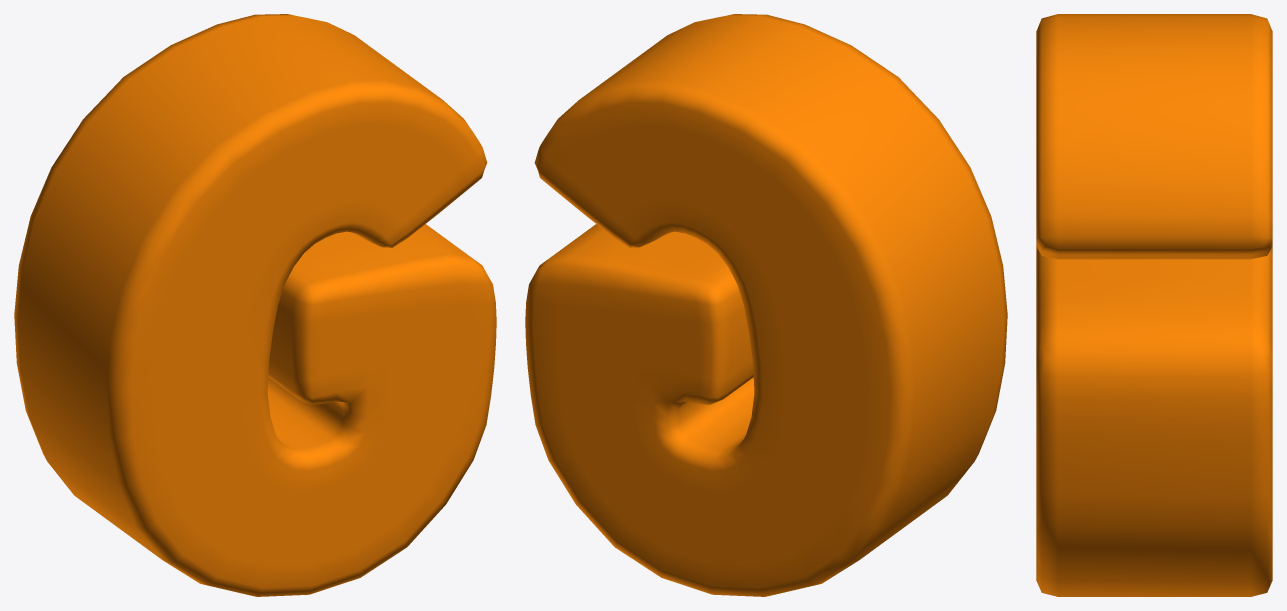
3 renders of one model, left to right at view 1: azimuth 30°, elevation 25°; view 2: azimuth 150°, elevation 25°; view 3: azimuth 270°, elevation 25°, orthographic. The views are drawn at different scales.
Parts seen in each view (by area): view 1: LETTER_G; view 2: LETTER_G; view 3: LETTER_G.
Part boxes in pixels (bbox=[...]): LETTER_G: bbox=[14, 14, 496, 596]; LETTER_G: bbox=[525, 14, 1007, 596]; LETTER_G: bbox=[1036, 14, 1272, 596].
Size of the model in its own units: 0.8095 by 1 by 0.3934.
